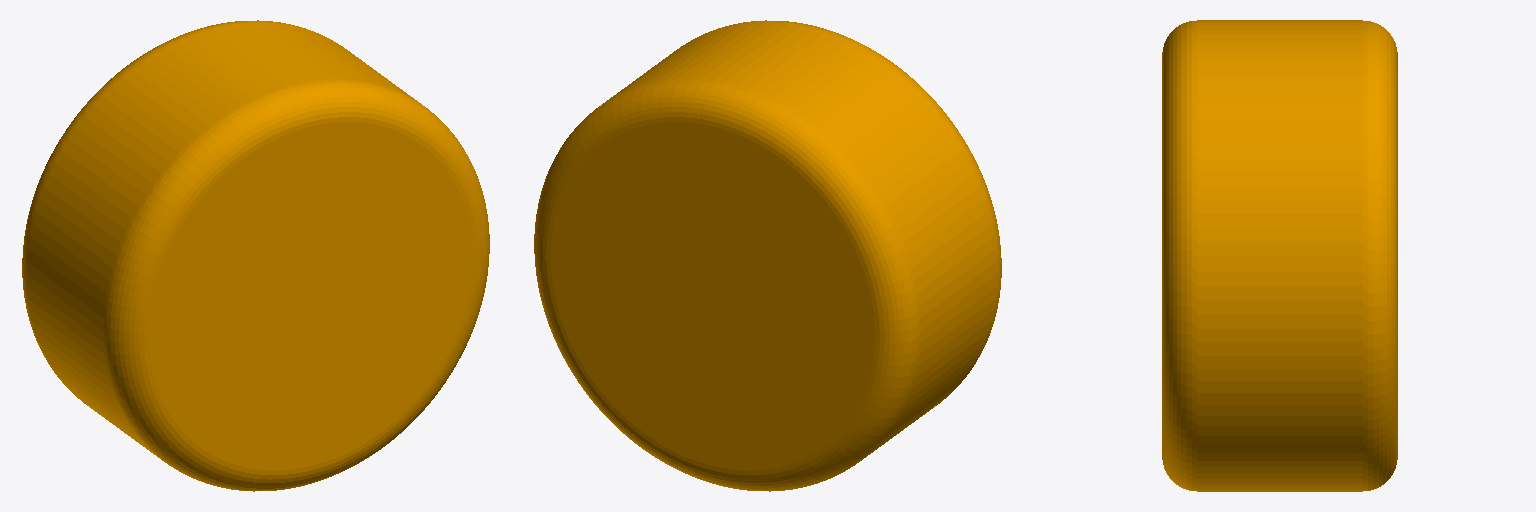
The robot description file, URDF, robot "wheel_l":
<?xml version="1.0" ?>
<robot name="wheel_l">

<link name="wheel_l_base_link">
  <inertial>
    <origin xyz="3.2719824703128014e-13 0.0025 0.0" rpy="0 0 0"/>
    <mass value="0.00302514313348508"/>
    <inertia ixx="0.0" iyy="0.0" izz="0.0" ixy="0.0" iyz="0.0" ixz="0.0"/>
  </inertial>
  <visual>
    <origin xyz="0 0 0" rpy="0 0 0"/>
    <geometry>
      <mesh filename="meshes/wheel_l_base_link.stl" scale="0.001 0.001 0.001"/>
    </geometry>
    <material name="silver"/>
  </visual>
  <collision>
    <origin xyz="0 0 0" rpy="0 0 0"/>
    <geometry>
      <mesh filename="meshes/wheel_l_base_link.stl" scale="0.001 0.001 0.001"/>
    </geometry>
  </collision>
</link>

<link name="wheel_l_AP_1">
  <inertial>
    <origin xyz="0.0 0.0 0.0" rpy="0 0 0"/>
    <mass value="4.110250388446646e-06"/>
    <inertia ixx="0.0" iyy="0.0" izz="0.0" ixy="-0.0" iyz="-0.0" ixz="-0.0"/>
  </inertial>
  
  
</link>

<joint name="Rigid 1" type="fixed">
  <origin xyz="0.0 0.0 0.0" rpy="0 0 0"/>
  <parent link="wheel_l_base_link"/>
  <child link="wheel_l_AP_1"/>
</joint>

</robot>

--- What the picture shows (computed from the rendered views, not written in the file) ---
Views: 3 orthographic renders of the robot side by side, from view 1: azimuth 30°, elevation 25°; view 2: azimuth 150°, elevation 25°; view 3: azimuth 270°, elevation 25°.
Model wheel_l with 2 links and 1 joints (1 fixed), rooted at wheel_l_base_link, posed every joint at zero.
Links seen in each view (by area): view 1: wheel_l_base_link; view 2: wheel_l_base_link; view 3: wheel_l_base_link.
Link boxes in pixels (x1,y1,x2,y2): wheel_l_base_link: (22, 20, 489, 491); wheel_l_base_link: (534, 20, 1001, 491); wheel_l_base_link: (1162, 20, 1397, 491).
Size in the robot's own frame: 0.01 by 0.005 by 0.01 metres.
Meshes: 1 distinct files referenced, 1 mesh visuals loaded (1 binary STL).
